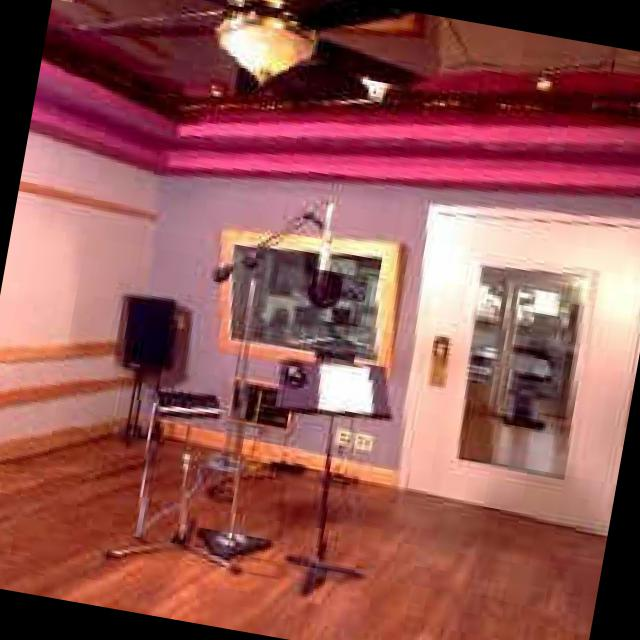2001: (216, 224, 400, 369)
band stand: (274, 353, 389, 581)
ceiling beam: (35, 0, 640, 157)
door bars: (400, 210, 640, 530)
floor -X: (0, 427, 602, 640)
lamp crop: (213, 3, 312, 81)
loudspeaker: (117, 290, 173, 367)
microphone: (198, 198, 334, 551)
pane: (454, 262, 582, 474)
wall clock: (138, 143, 640, 484), (0, 93, 165, 460)
